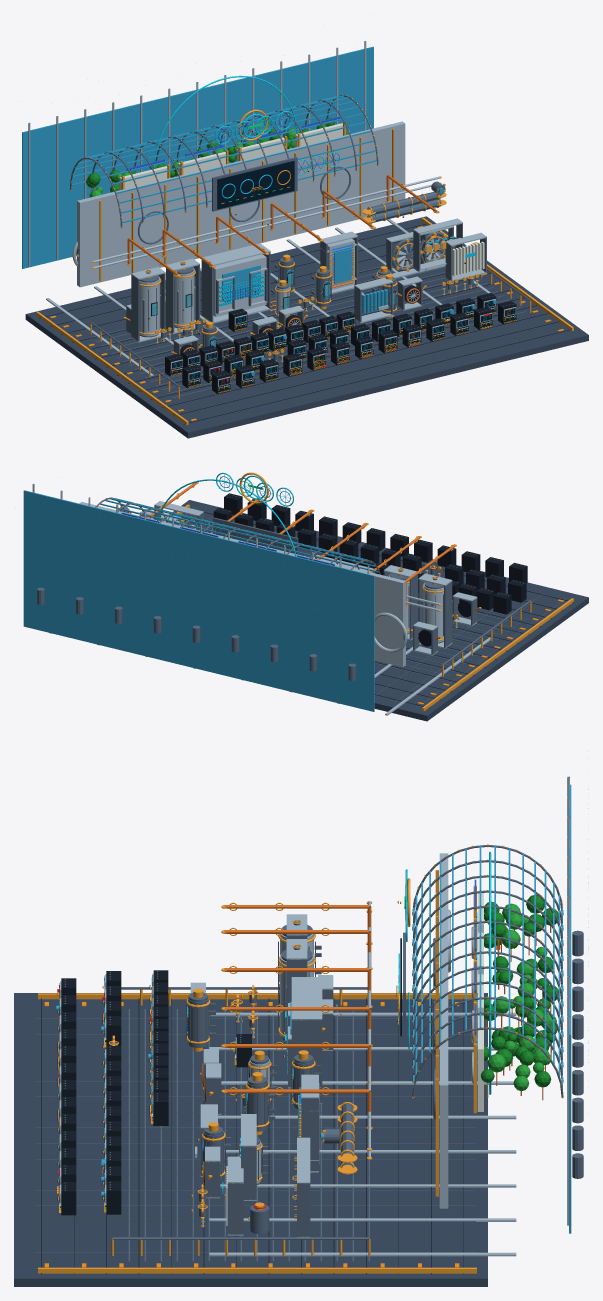
The model's file is Level88_Complete_ArtKit_Showcase.fbx.
3 renders of one model, top to bottom at view 1: azimuth 30°, elevation 25°; view 2: azimuth 150°, elevation 25°; view 3: azimuth 270°, elevation 25°, orthographic. The views are drawn at different scales.
Visible parts, largest first — view 1: L87_HabitatAtmosphereQualificationArenaB_Part_0000, L87_PanoramicOrbitalGardenViewport_Part_0000, L87_PressurizedHabitatServiceBulkhead_Part_0000, L87_PanoramicOrbitalGardenViewport_Part_0001, L87_HabitatAtmosphereQualificationArenaB_Part_0002, L87_LifeSupportEquipmentServiceWalkway_Part_0001, L87_HabitatEnvironmentalSCADA_Part_0001, L87_O2WaterElectrolysisChamber_Part_0001, L87_ProcessGasOverheadPipeNetwork_Part_0003, L87_PressurizedHabitatServiceBulkhead_Part_0001, L87_ProcessGasOverheadPipeNetwork_Part_0000, L87_HabitatAtmosphereQualificationArenaB_Part_0006 (+21 smaller); view 2: L87_PanoramicOrbitalGardenViewport_Part_0000, L87_HabitatAtmosphereQualificationArenaB_Part_0000, L87_PressurizedHabitatServiceBulkhead_Part_0000, L87_PanoramicOrbitalGardenViewport_Part_0002, L87_LifeSupportEquipmentServiceWalkway_Part_0001, L87_DualAdsorberTowerA_Part_0001, L87_DualAdsorberTowerA_Part_0000, L87_HabitatEnvironmentalSCADA_Part_0000, L87_ProcessGasOverheadPipeNetwork_Part_0000, L87_HabitatAtmosphereQualificationArenaB_Part_0003, L87_HabitatAtmosphereQualificationArenaB_Part_0002, L87_DualAdsorberTowerB_Part_0001 (+14 smaller); view 3: L87_HabitatAtmosphereQualificationArenaB_Part_0000, L87_HabitatAtmosphereQualificationArenaB_Part_0006, L87_HabitatAtmosphereQualificationArenaB_Part_0001, L87_LifeSupportEquipmentServiceWalkway_Part_0001, L87_HabitatAtmosphereQualificationArenaB_Part_0003, L87_ProcessGasOverheadPipeNetwork_Part_0000, L87_HabitatAtmosphereQualificationArenaB_Part_0002, L87_PressurizedHabitatServiceBulkhead_Part_0000, L87_PanoramicOrbitalGardenViewport_Part_0002, L87_HabitatRingGlassBioDome_Part_0030, L87_HabitatRingGlassBioDome_Part_0033, L87_HabitatRingGlassBioDome_Part_0032 (+24 smaller).
Boxes of the visible parts, x1=… form: L87_HabitatAtmosphereQualificationArenaB_Part_0000: x1=25, y1=216, x2=588, y2=438; L87_PanoramicOrbitalGardenViewport_Part_0000: x1=22, y1=46, x2=373, y2=268; L87_PressurizedHabitatServiceBulkhead_Part_0000: x1=77, y1=121, x2=405, y2=287; L87_PanoramicOrbitalGardenViewport_Part_0001: x1=28, y1=41, x2=366, y2=266; L87_HabitatAtmosphereQualificationArenaB_Part_0002: x1=39, y1=224, x2=570, y2=424; L87_LifeSupportEquipmentServiceWalkway_Part_0001: x1=89, y1=237, x2=530, y2=398; L87_HabitatEnvironmentalSCADA_Part_0001: x1=217, y1=161, x2=294, y2=209; L87_O2WaterElectrolysisChamber_Part_0001: x1=202, y1=243, x2=270, y2=323; L87_ProcessGasOverheadPipeNetwork_Part_0003: x1=93, y1=176, x2=440, y2=268; L87_PressurizedHabitatServiceBulkhead_Part_0001: x1=99, y1=129, x2=394, y2=281; L87_ProcessGasOverheadPipeNetwork_Part_0000: x1=127, y1=174, x2=438, y2=274; L87_HabitatAtmosphereQualificationArenaB_Part_0006: x1=46, y1=219, x2=490, y2=375; L87_PanoramicOrbitalGardenViewport_Part_0000: x1=23, y1=490, x2=374, y2=711; L87_HabitatAtmosphereQualificationArenaB_Part_0000: x1=173, y1=500, x2=588, y2=721; L87_PressurizedHabitatServiceBulkhead_Part_0000: x1=79, y1=502, x2=405, y2=667; L87_PanoramicOrbitalGardenViewport_Part_0002: x1=37, y1=587, x2=356, y2=680; L87_LifeSupportEquipmentServiceWalkway_Part_0001: x1=178, y1=516, x2=531, y2=680; L87_DualAdsorberTowerA_Part_0001: x1=418, y1=577, x2=452, y2=647; L87_DualAdsorberTowerA_Part_0000: x1=418, y1=573, x2=452, y2=648; L87_HabitatEnvironmentalSCADA_Part_0000: x1=213, y1=517, x2=298, y2=554; L87_ProcessGasOverheadPipeNetwork_Part_0000: x1=147, y1=482, x2=455, y2=606; L87_HabitatAtmosphereQualificationArenaB_Part_0003: x1=176, y1=504, x2=573, y2=711; L87_HabitatAtmosphereQualificationArenaB_Part_0002: x1=181, y1=512, x2=573, y2=707; L87_DualAdsorberTowerB_Part_0001: x1=383, y1=568, x2=417, y2=639; L87_HabitatAtmosphereQualificationArenaB_Part_0000: x1=14, y1=993, x2=487, y2=1286; L87_HabitatAtmosphereQualificationArenaB_Part_0006: x1=209, y1=1012, x2=516, y2=1256; L87_HabitatAtmosphereQualificationArenaB_Part_0001: x1=35, y1=1003, x2=475, y2=1268; L87_LifeSupportEquipmentServiceWalkway_Part_0001: x1=112, y1=987, x2=369, y2=1261; L87_HabitatAtmosphereQualificationArenaB_Part_0003: x1=38, y1=993, x2=476, y2=1273; L87_ProcessGasOverheadPipeNetwork_Part_0000: x1=224, y1=905, x2=371, y2=1127; L87_HabitatAtmosphereQualificationArenaB_Part_0002: x1=41, y1=998, x2=463, y2=1274; L87_PressurizedHabitatServiceBulkhead_Part_0000: x1=439, y1=853, x2=448, y2=1208; L87_PanoramicOrbitalGardenViewport_Part_0002: x1=572, y1=930, x2=583, y2=1178; L87_HabitatRingGlassBioDome_Part_0030: x1=487, y1=903, x2=556, y2=1091; L87_HabitatRingGlassBioDome_Part_0033: x1=477, y1=895, x2=552, y2=1087; L87_HabitatRingGlassBioDome_Part_0032: x1=484, y1=901, x2=558, y2=1059.
Bounding box in the file's own units: 3080 × 1438 × 2621.
